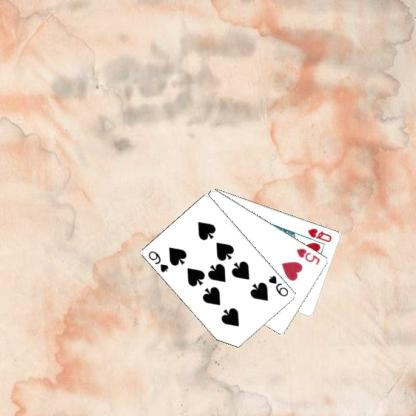5H: (294, 246, 322, 266)
9S: (265, 272, 290, 298), (145, 248, 170, 274)
QH: (305, 226, 333, 243)
